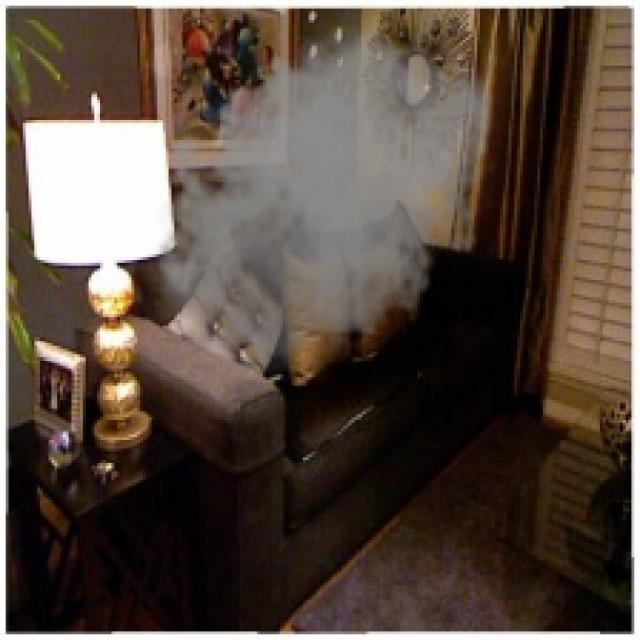Smoke: (145, 17, 500, 386)
